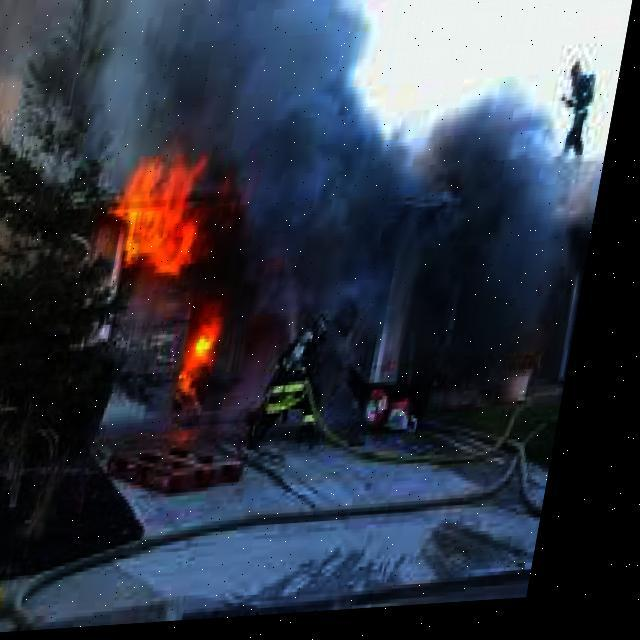Fire: (99, 136, 249, 297), (166, 292, 266, 428)
